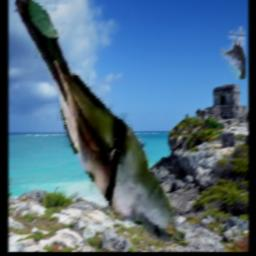Crow: (221, 26, 247, 79)
Cuckoo: (12, 0, 185, 244)
